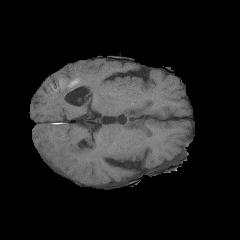glioma: (47, 78, 109, 175)
